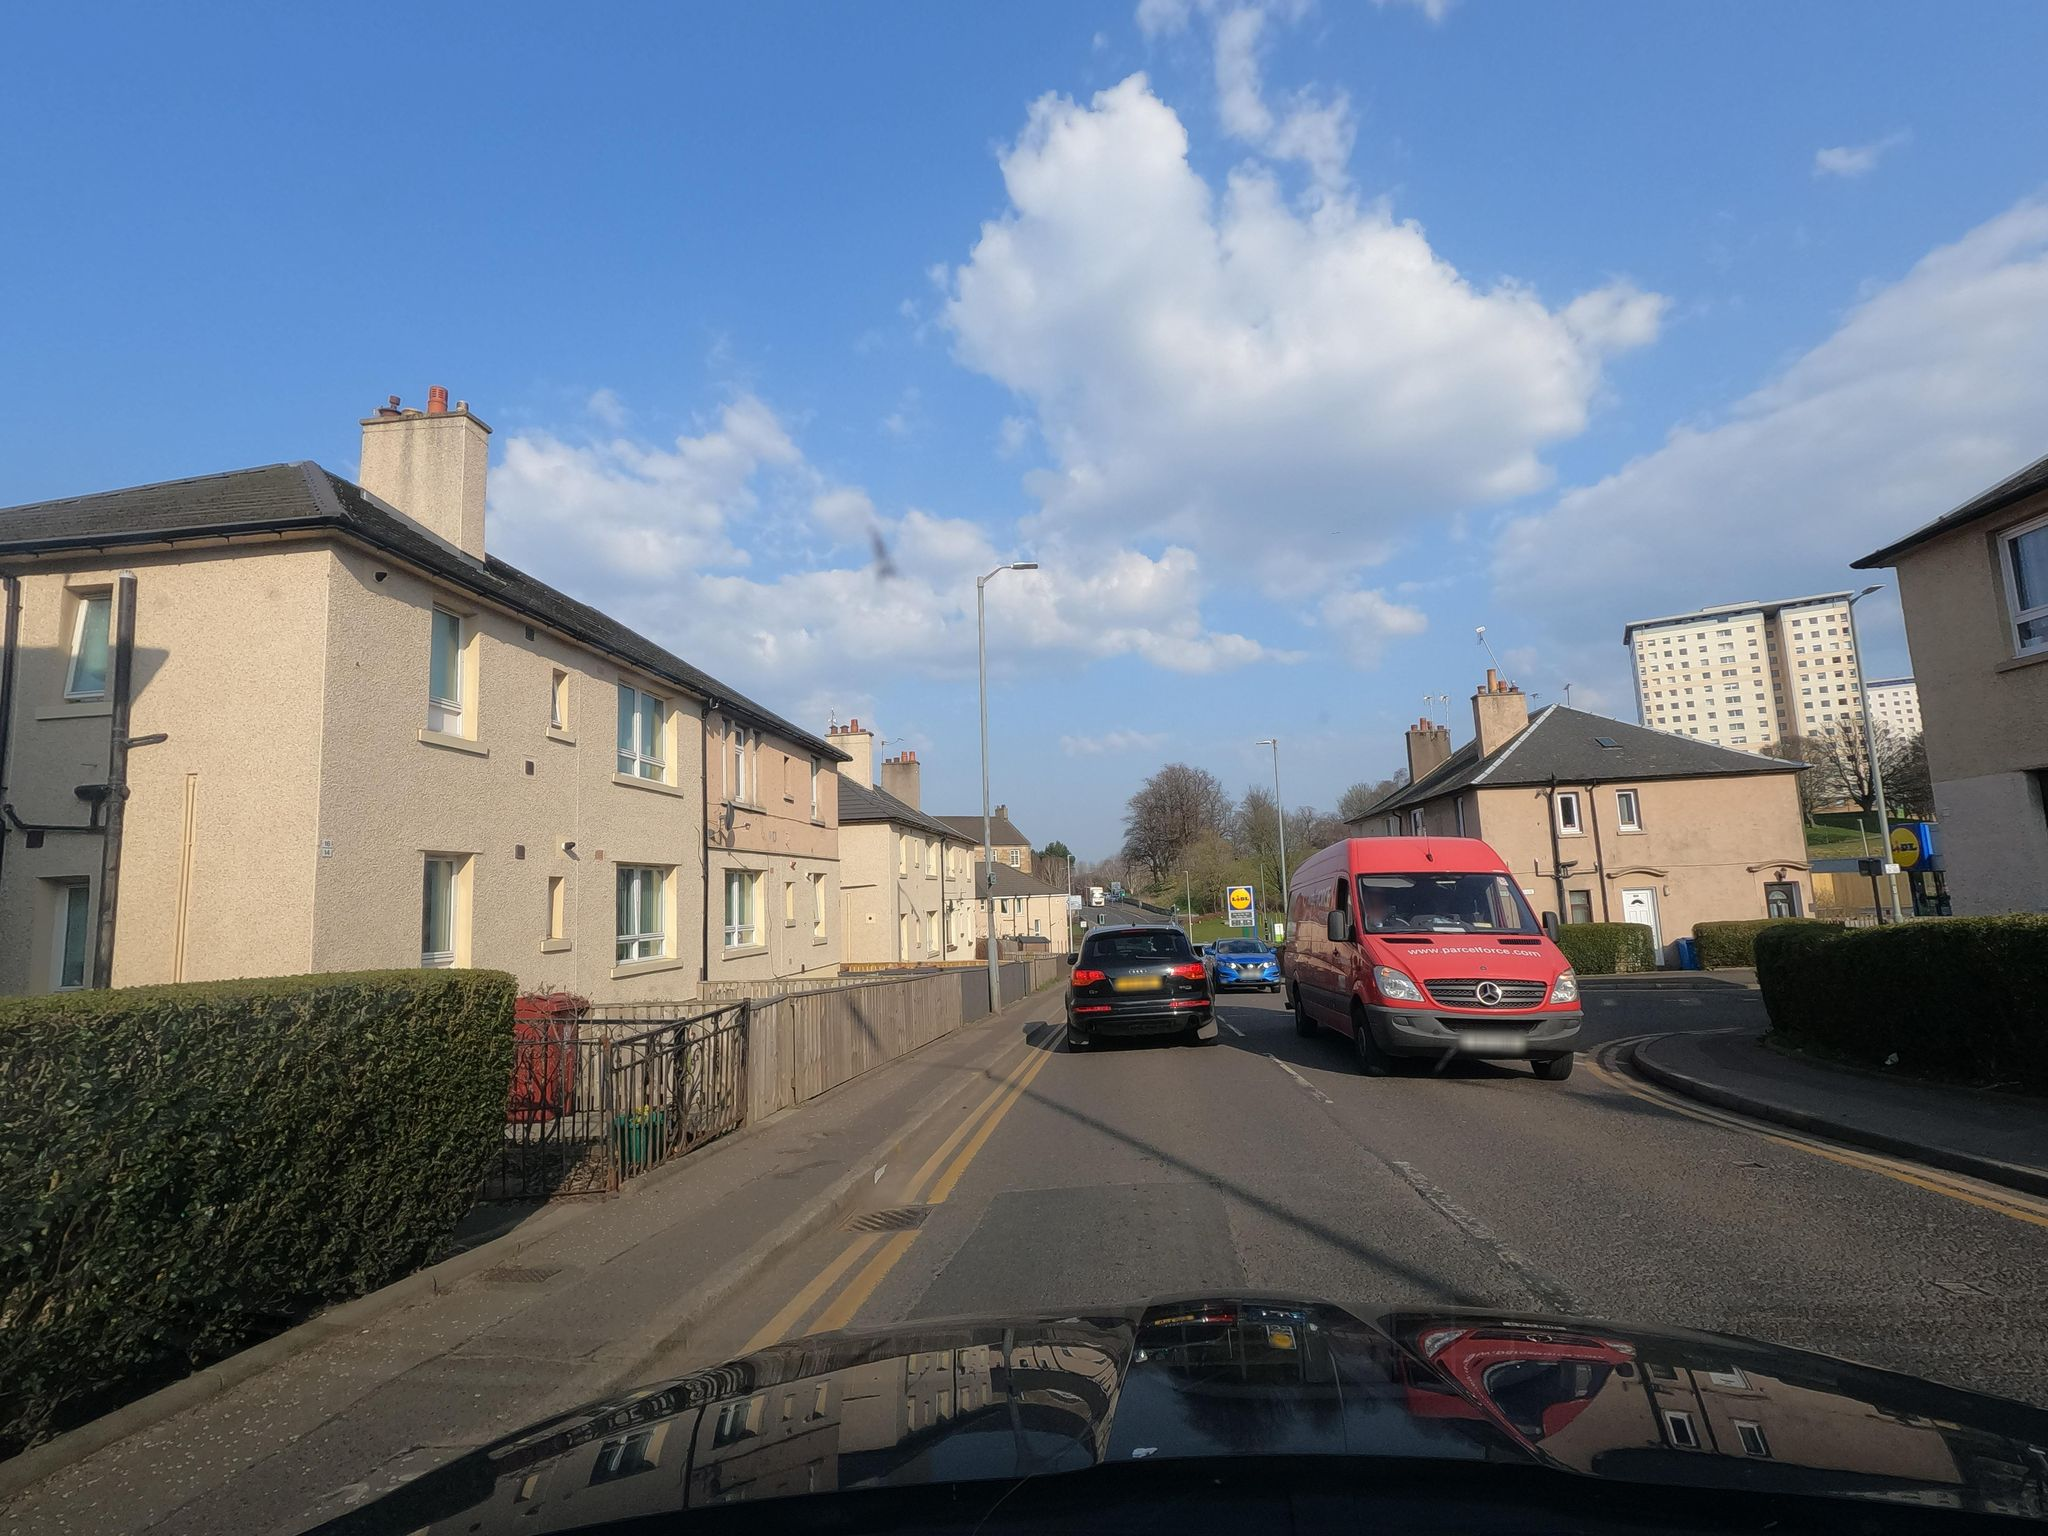car: (1279, 831, 1590, 1087), (1059, 921, 1221, 1049), (1201, 937, 1280, 995)
